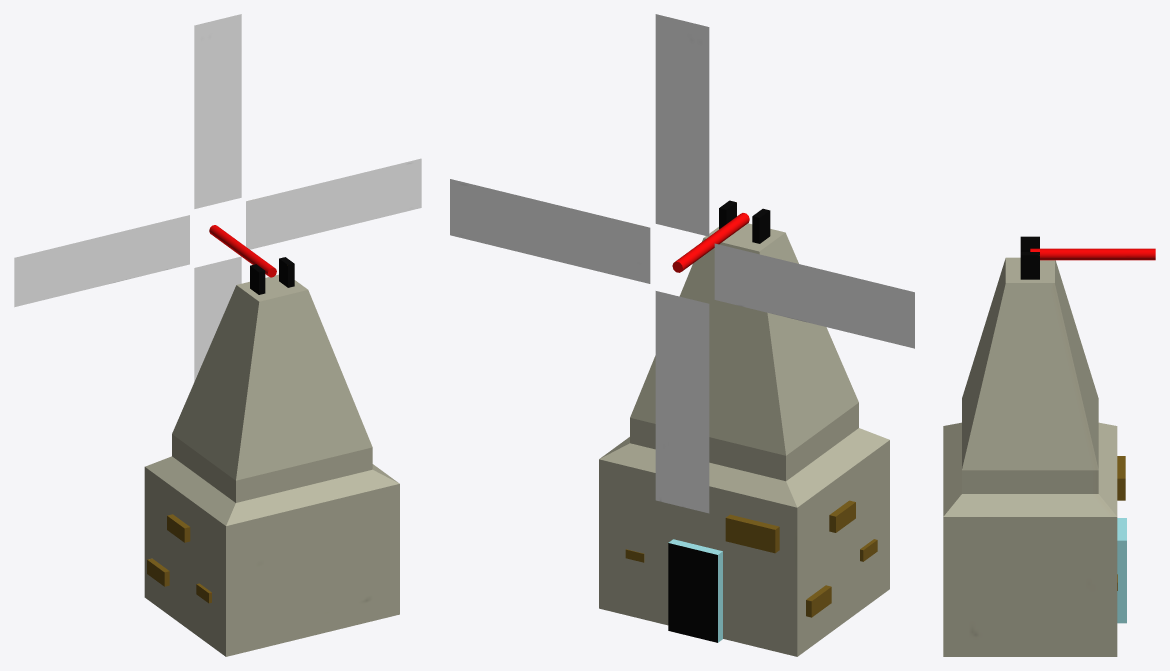
Rendered from windmill.FBX.
3 views of the same model, side by side, from view 1: azimuth 30°, elevation 25°; view 2: azimuth 150°, elevation 25°; view 3: azimuth 270°, elevation 25° (orthographic). The views are drawn at different scales.
Parts seen in each view (by area): view 1: Box001, Plane002, Plane005, Plane004, Plane003, Cylinder001; view 2: Box001, Plane002, Plane003, Plane005, Plane004, Box009, Box002, Cylinder001; view 3: Box001, Cylinder001, Box009, Box008, Box002.
Part boxes in pixels (<box>): Box001: <box>144,274,399,656</box>; Plane002: <box>194,14,241,208</box>; Plane005: <box>14,215,189,307</box>; Plane004: <box>246,158,421,249</box>; Plane003: <box>194,256,241,381</box>; Cylinder001: <box>209,225,276,277</box>; Box001: <box>599,223,889,656</box>; Plane002: <box>655,14,709,236</box>; Plane003: <box>655,291,709,513</box>; Plane005: <box>714,243,914,348</box>; Plane004: <box>450,179,650,283</box>; Box009: <box>668,539,722,642</box>; Box002: <box>725,514,779,553</box>; Cylinder001: <box>672,213,749,272</box>; Box001: <box>943,257,1117,656</box>; Cylinder001: <box>1030,248,1155,260</box>; Box009: <box>1117,518,1126,623</box>; Box008: <box>1020,252,1039,279</box>; Box002: <box>1117,456,1125,500</box>.
Bounding box in the file's own units: 1.41 × 1.8 × 0.5928.
Materials: 1 (1 with a texture image).
